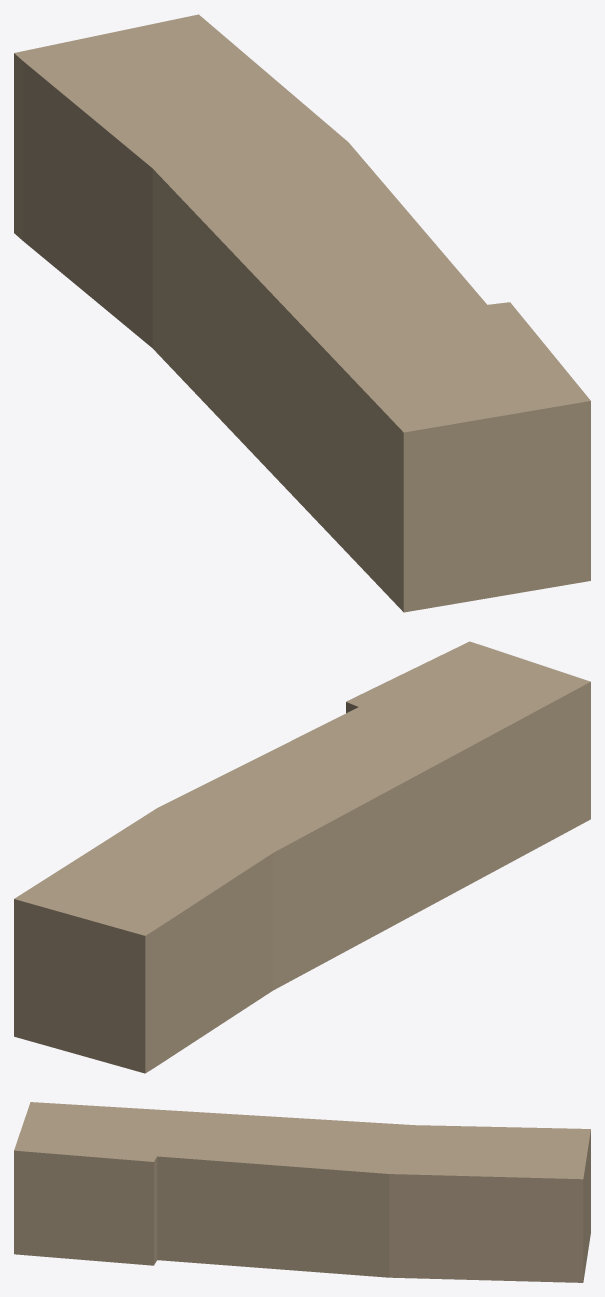
Rendered from bld_98768161.dae.
3 renders of one model, top to bottom at view 1: azimuth 30°, elevation 25°; view 2: azimuth 150°, elevation 25°; view 3: azimuth 270°, elevation 25°, orthographic. The views are drawn at different scales.
Visible parts, largest first — view 1: Boots; view 2: Boots; view 3: Boots.
Part boxes in pixels (bbox=[...]): Boots: bbox=[14, 14, 590, 612]; Boots: bbox=[14, 641, 590, 1073]; Boots: bbox=[14, 1102, 590, 1282].
Size of the model in its own units: 12.77 by 40.33 by 8.
